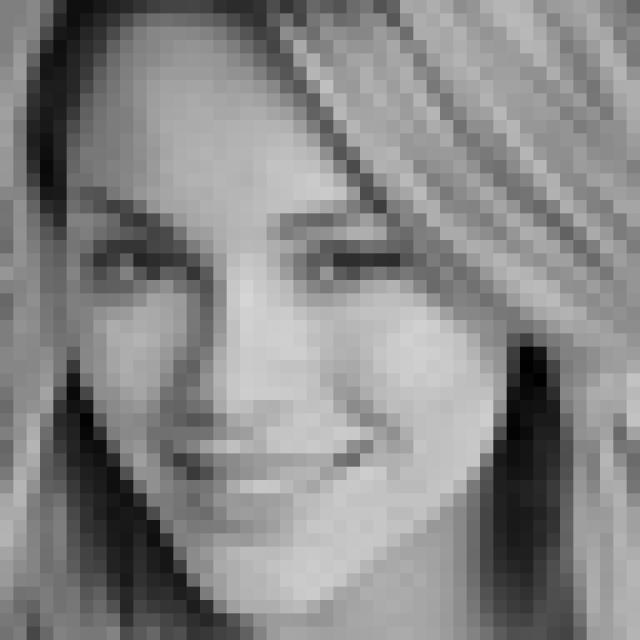happy: (70, 176, 412, 538)
